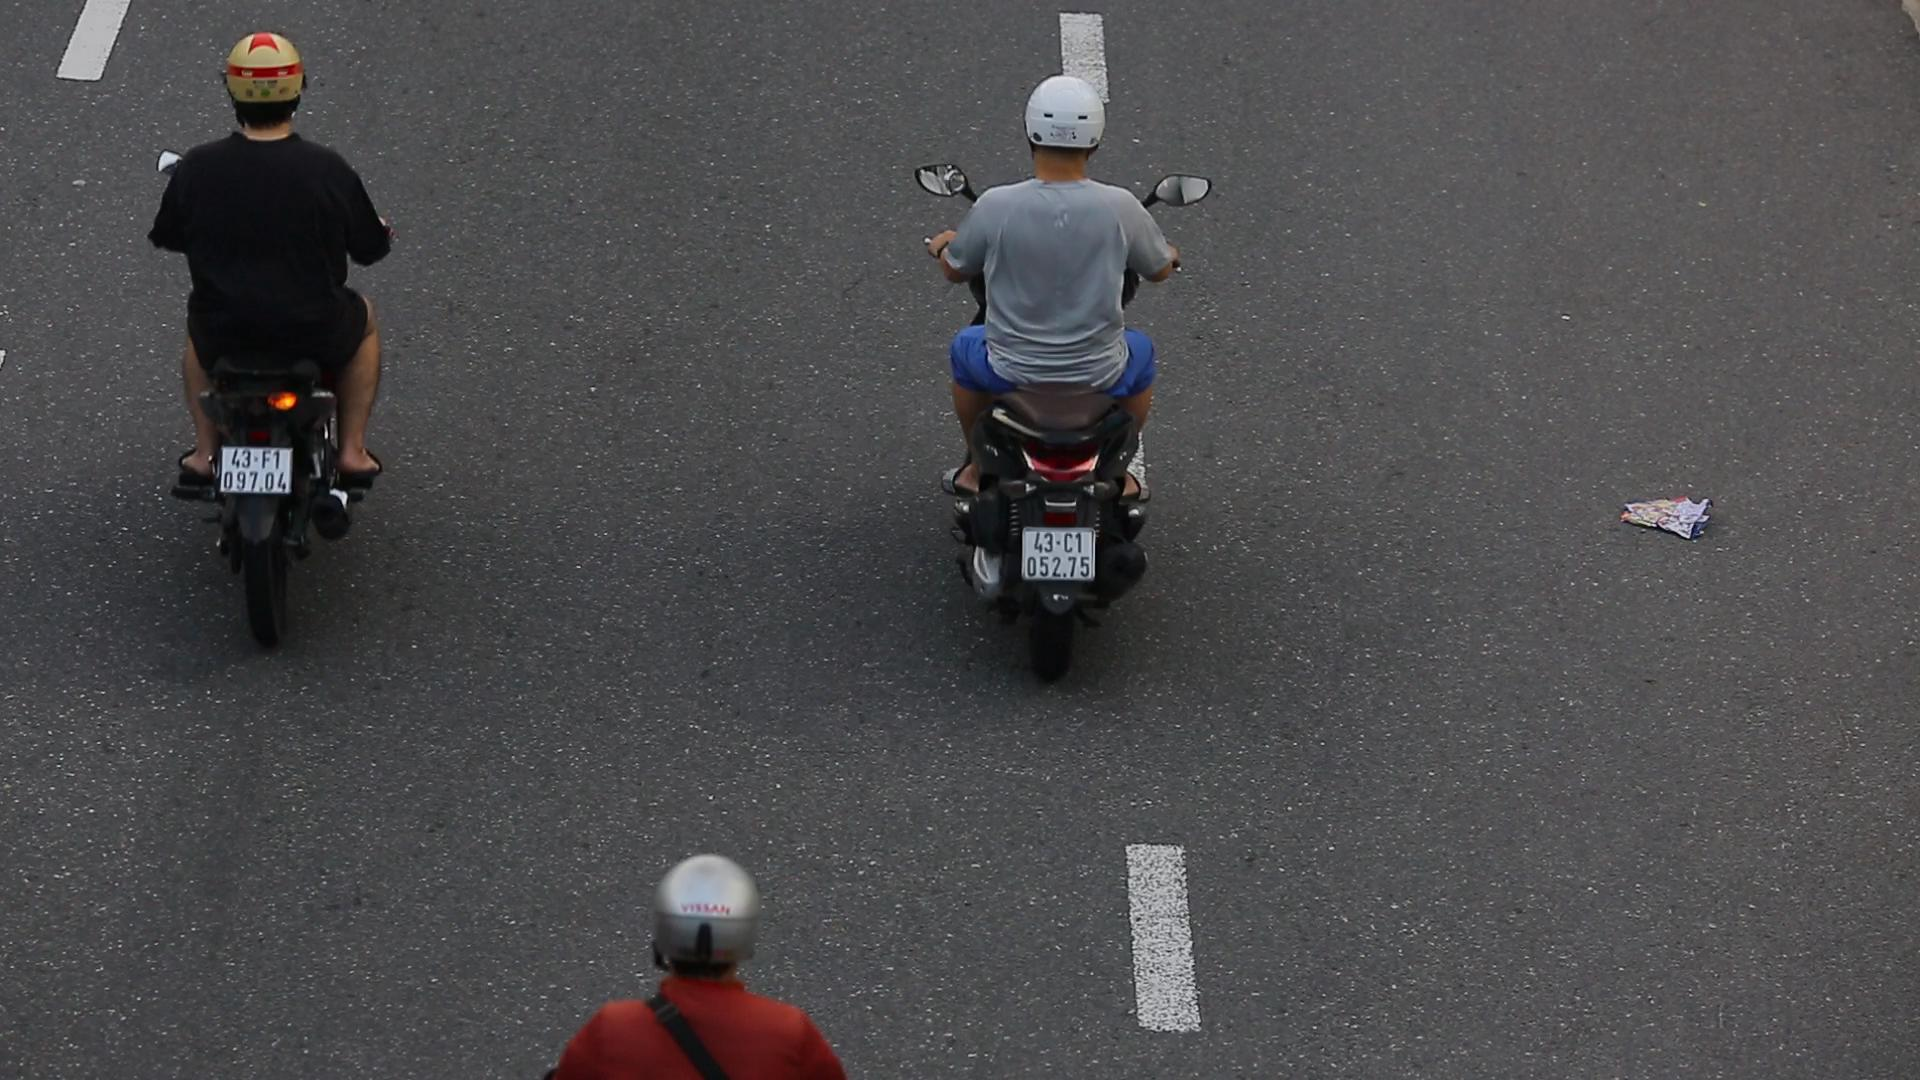motobike: (906, 49, 1232, 732), (129, 0, 397, 674)
